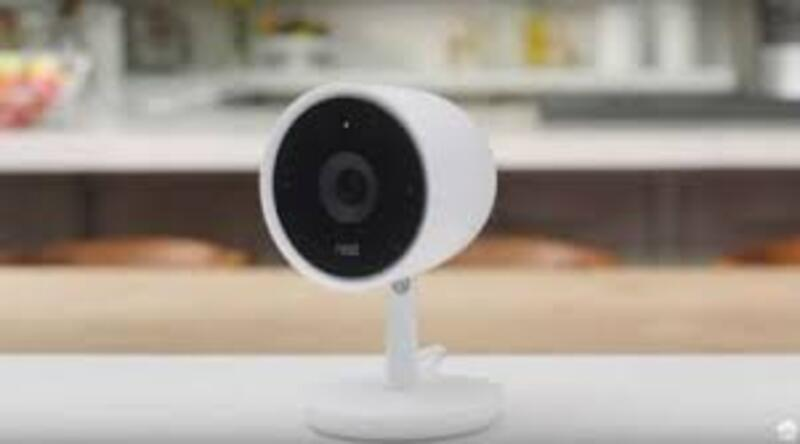nest: (244, 69, 503, 291)
